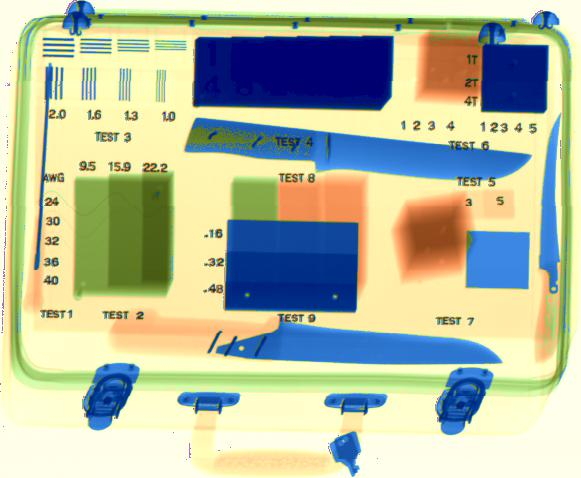Knife: (181, 117, 532, 180), (112, 310, 504, 366), (534, 113, 559, 364)
